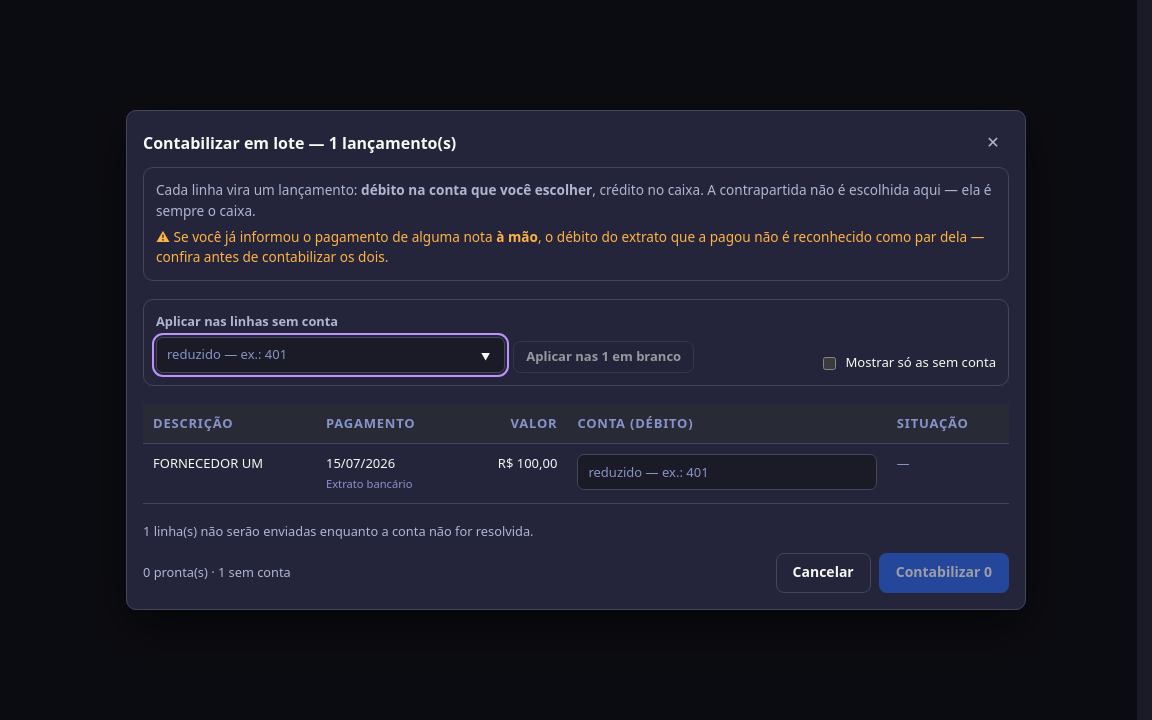
Test case: ⚠⚠ a conta recusada é nomeada NA LINHA, e a linha não é enviada › ⚠ conta boa habilita o botão com a contagem certa
In the field named "Conta contábil da despesa": {"x": 727, "y": 472} [577, 454, 877, 490], type "401"
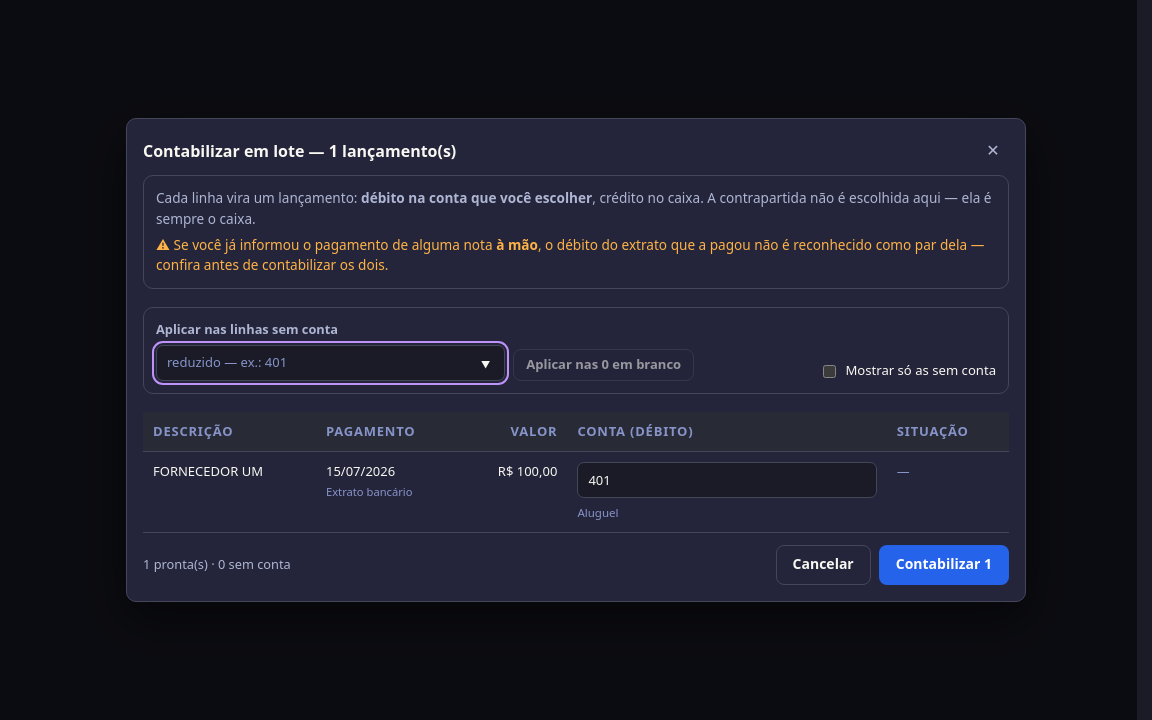
Expected: the button "Contabilizar 1" is enabled, [879, 545, 1009, 585]
